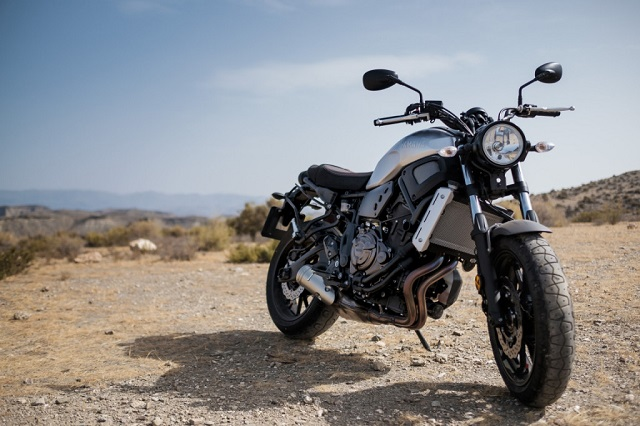bike: (265, 63, 575, 410)
